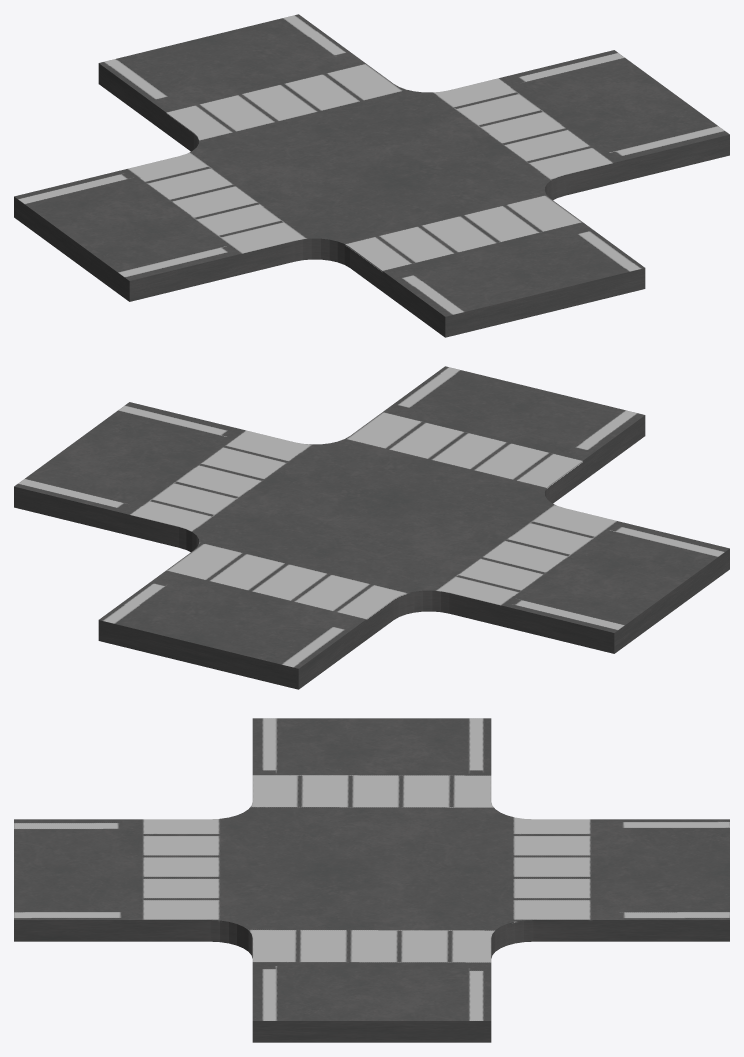
File: rua_cruzamento_Texturizado.fbx
3 views of the same model, one above another, from view 1: azimuth 30°, elevation 25°; view 2: azimuth 150°, elevation 25°; view 3: azimuth 270°, elevation 25° (orthographic). The views are drawn at different scales.
Visible parts, largest first — view 1: rua cruzamento; view 2: rua cruzamento; view 3: rua cruzamento.
Boxes of the visible parts, x1,y1,x2,y2 form: rua cruzamento: (14,14,729,337); rua cruzamento: (14,366,729,689); rua cruzamento: (14,718,729,1042).
Bounding box in the file's own units: 600 × 20 × 600.
1 material, 1 textured.
